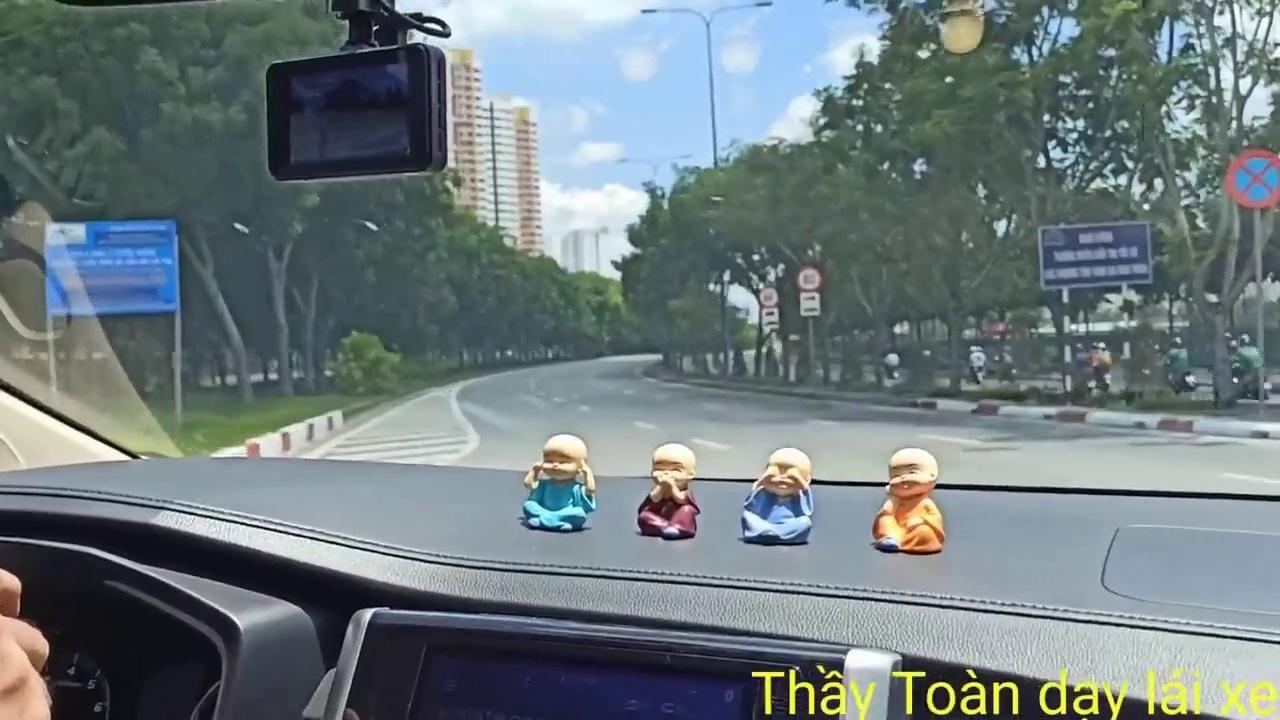Biển phụ: (799, 290, 822, 316), (760, 308, 779, 330)
Cấm dừng - Cấm đỗ: (1222, 146, 1279, 210)
Khác: (42, 218, 182, 321)
